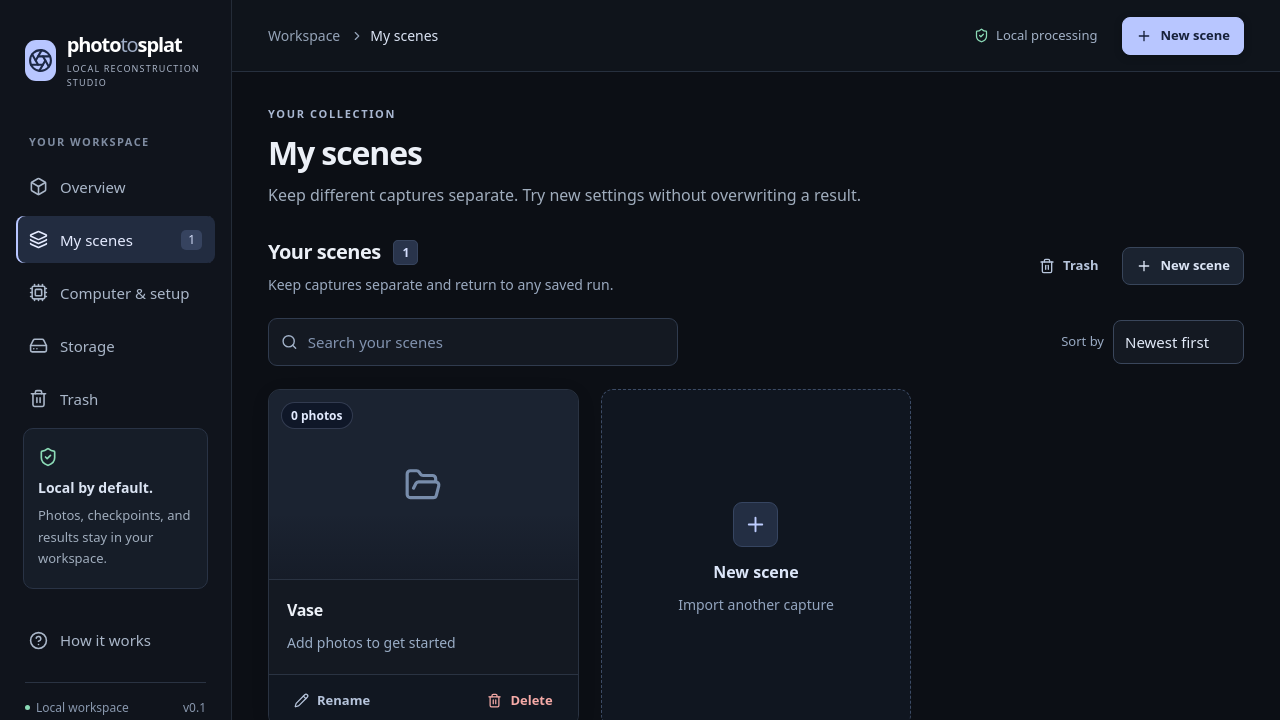
shows an action failure inside the open dialog
Click the button with aria-label "Rename Vase".
click(332, 701)  # box x1=280 y1=682 x2=384 y2=719
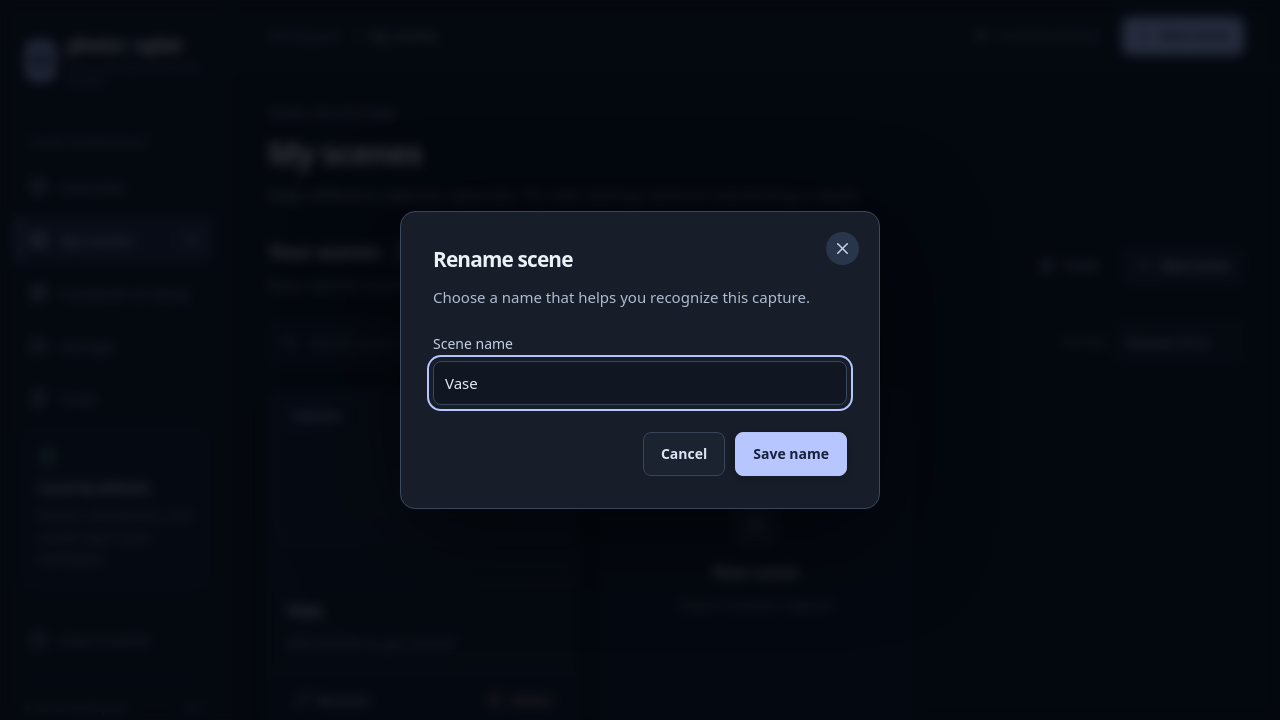
Click the button "Save name".
click(791, 454)  # box x1=735 y1=432 x2=847 y2=476
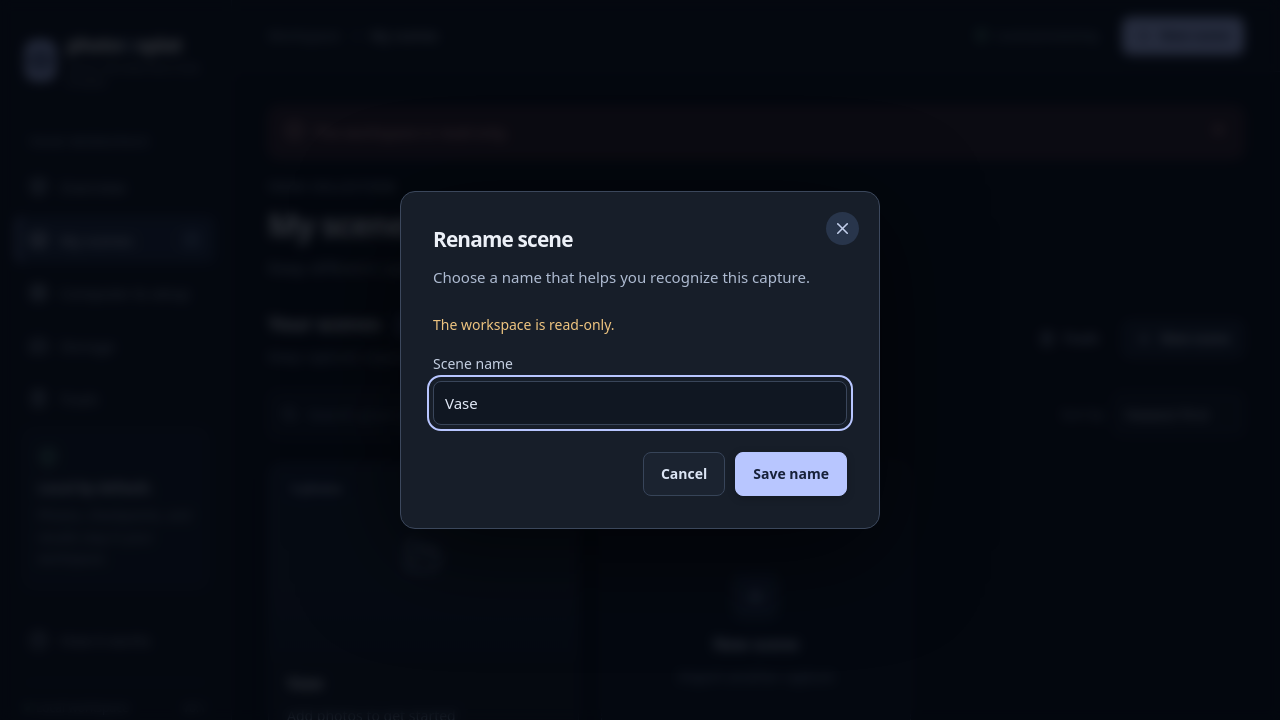
Now the dialog is shown, box x1=400 y1=191 x2=880 y2=529
Now the message reads "The workspace is read-only.", box x1=433 y1=315 x2=614 y2=334
